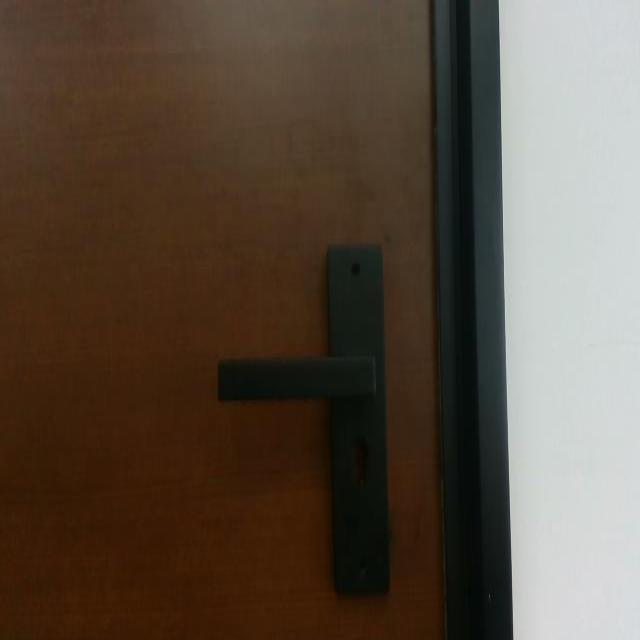doorhandle: (206, 343, 386, 414)
